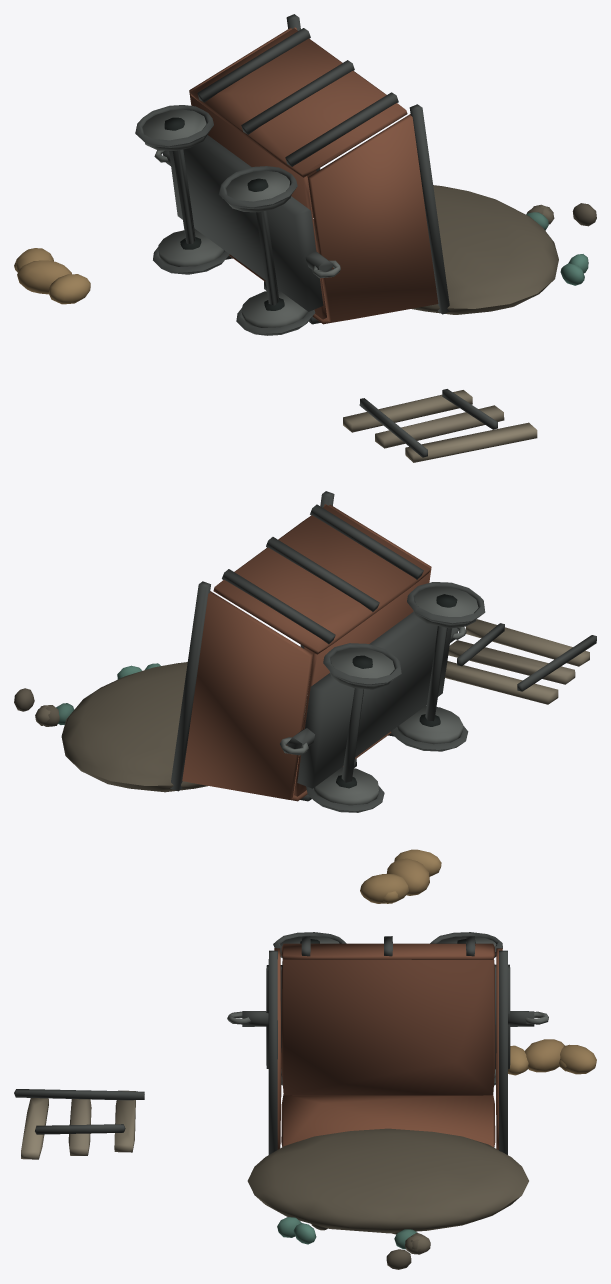
Rendered from tram_bogie_a_lod2.glb.
3 views of the same model, one above another, from view 1: azimuth 30°, elevation 25°; view 2: azimuth 150°, elevation 25°; view 3: azimuth 270°, elevation 25° (orthographic). The views are drawn at different scales.
Parts seen in each view (by area): view 1: Surface.001; view 2: Surface.001; view 3: Surface.001.
Boxes of the visible parts, bbox=[...] form: Surface.001: bbox=[14, 14, 596, 462]; Surface.001: bbox=[14, 491, 596, 903]; Surface.001: bbox=[14, 932, 596, 1269].
Bounding box in the file's own units: 6.47 × 2.98 × 7.09.
